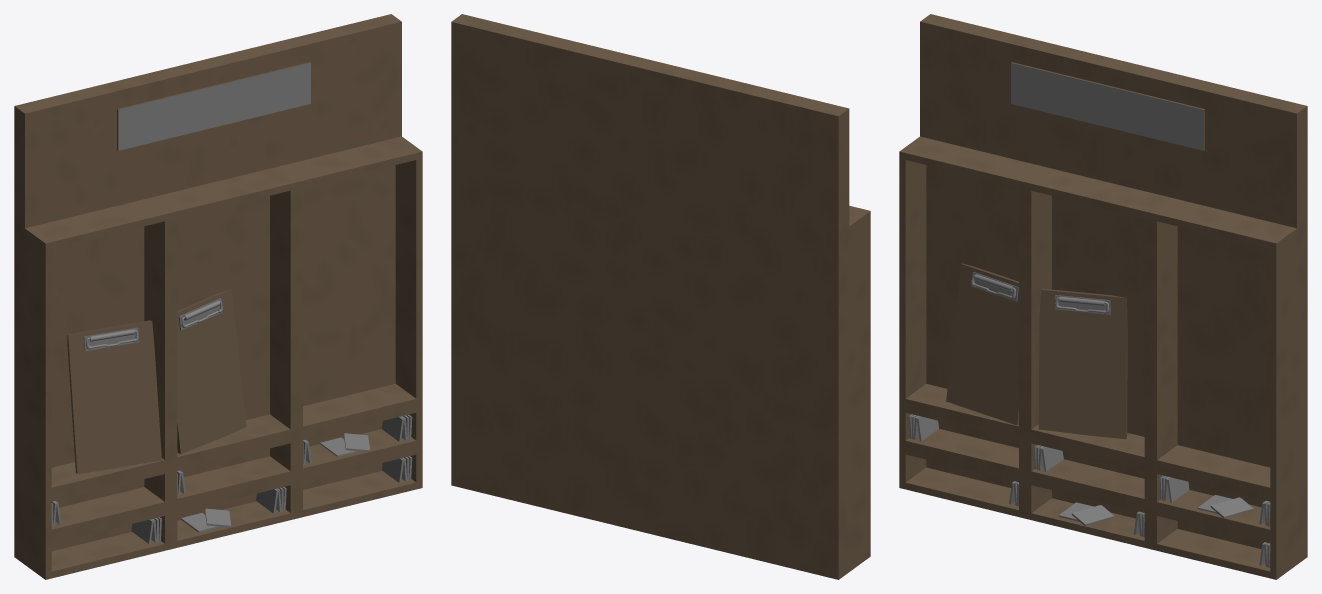
Rendered from PaperShelves.fbx.
3 views of the same model, side by side, from view 1: azimuth 30°, elevation 25°; view 2: azimuth 150°, elevation 25°; view 3: azimuth 330°, elevation 25° (orthographic). The views are drawn at different scales.
Parts seen in each view (by area): view 1: Cube.113; view 2: Cube.113; view 3: Cube.113.
Boxes of the visible parts, <box> form: Cube.113: <box>14,14,422,579</box>; Cube.113: <box>451,14,870,579</box>; Cube.113: <box>899,14,1307,579</box>.
Bounding box in the file's own units: 215 × 246 × 30.72.
